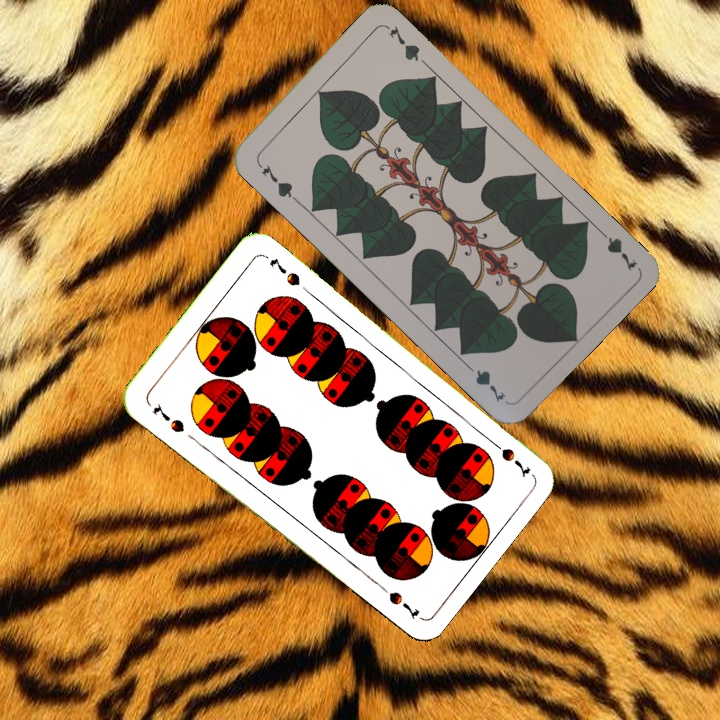G7: (592, 223, 640, 274), (252, 157, 299, 204)
S7: (484, 434, 533, 479), (148, 398, 188, 436)
